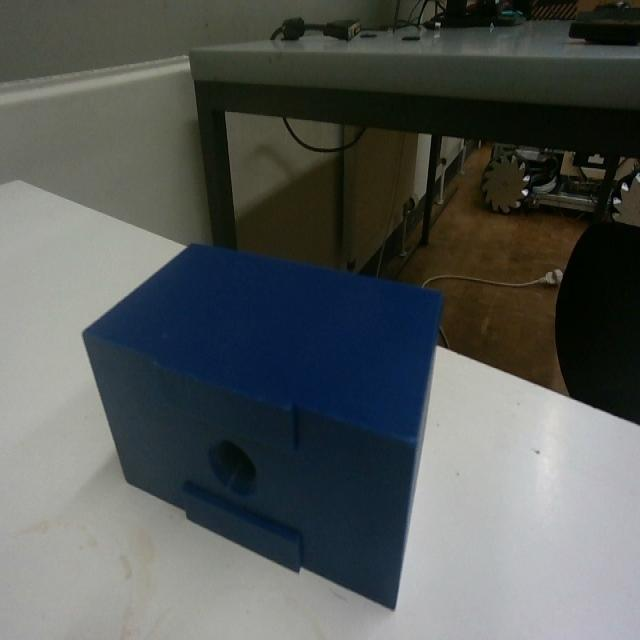Blue Cuboid: (80, 236, 445, 611)
